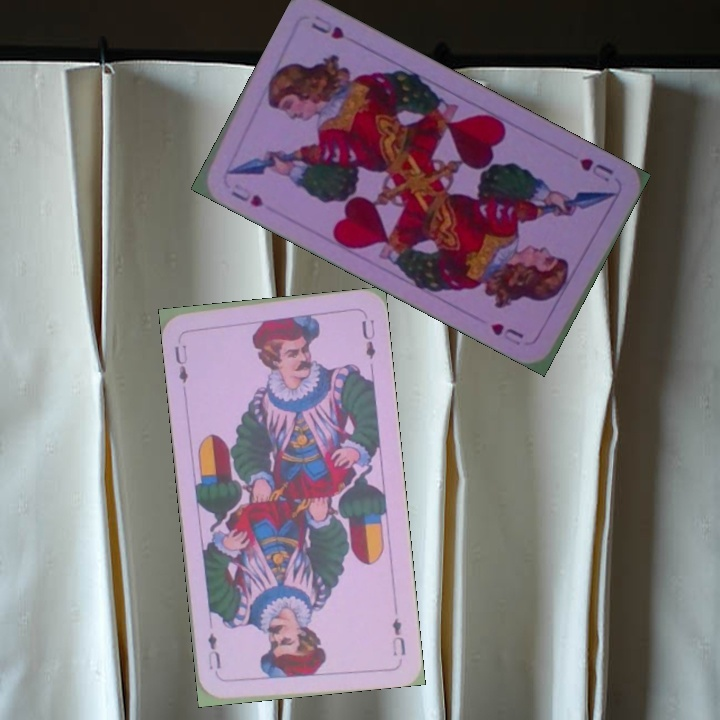EU: (170, 340, 191, 386), (387, 614, 408, 658)
HU: (575, 154, 616, 185), (227, 179, 266, 210)
